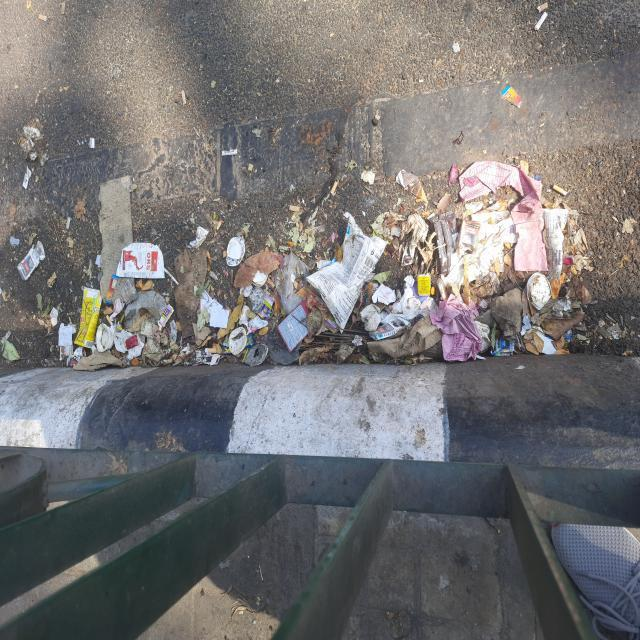Background: (0, 0, 640, 370)
Cig_bud: (535, 12, 548, 30), (552, 185, 568, 197), (205, 343, 222, 353), (330, 180, 339, 195), (538, 2, 549, 13), (181, 90, 187, 106), (106, 315, 113, 326), (66, 216, 71, 231), (290, 205, 300, 212), (216, 222, 222, 229)
Cig_pack: (369, 317, 410, 340), (456, 220, 481, 255)
Plastic: (120, 278, 139, 303)
Plastic_Bag: (275, 253, 309, 313), (114, 325, 131, 353)
Plastic_wraper: (306, 212, 388, 330), (431, 210, 459, 273), (501, 85, 522, 108), (359, 282, 379, 305), (491, 338, 515, 357), (259, 290, 275, 318), (159, 305, 174, 328), (481, 200, 508, 212), (106, 275, 118, 302), (324, 315, 339, 332), (125, 335, 139, 350), (114, 298, 122, 315), (562, 255, 575, 265), (564, 330, 571, 340)
Tetrapack: (116, 243, 165, 278), (74, 287, 101, 348)
